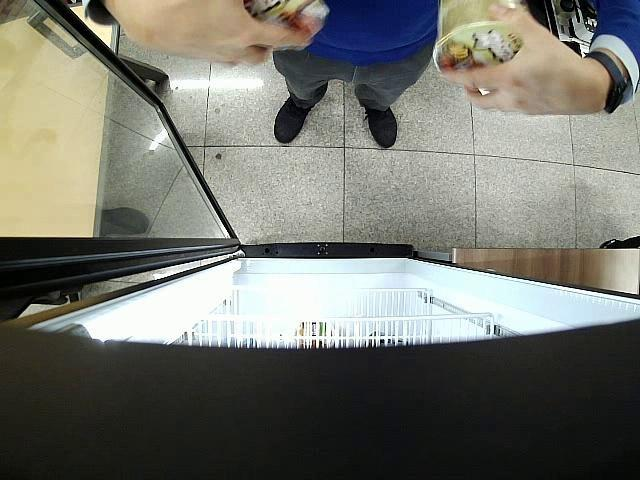03_chapagetti_L: (434, 0, 524, 72), (243, 0, 329, 42)
